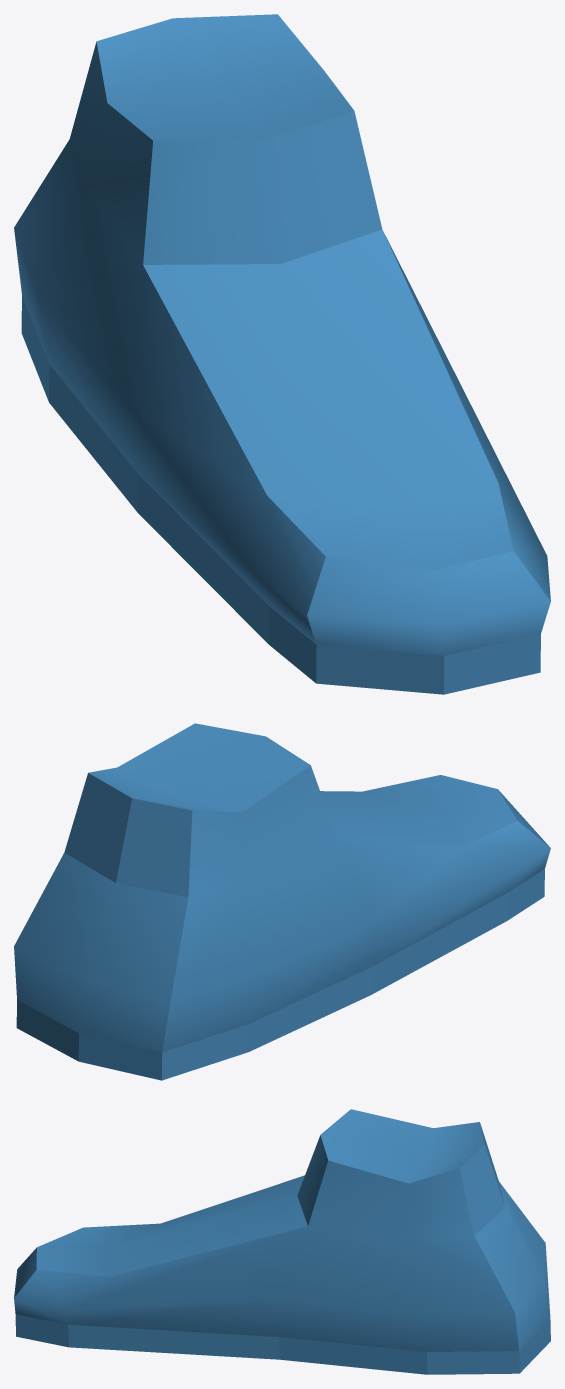
The model's file is Driver_Foot_01.fbx.
3 views of the same model, one above another, from view 1: azimuth 30°, elevation 25°; view 2: azimuth 150°, elevation 25°; view 3: azimuth 270°, elevation 25° (orthographic). The views are drawn at different scales.
Parts seen in each view (by area): view 1: Driver_Foot_01; view 2: Driver_Foot_01; view 3: Driver_Foot_01.
Part boxes in pixels (x1,y1,x2,y2): Driver_Foot_01: (14,14,550,694); Driver_Foot_01: (14,723,550,1080); Driver_Foot_01: (14,1109,550,1374).
Bounding box in the file's own units: 16.29 × 14.91 × 35.78.
